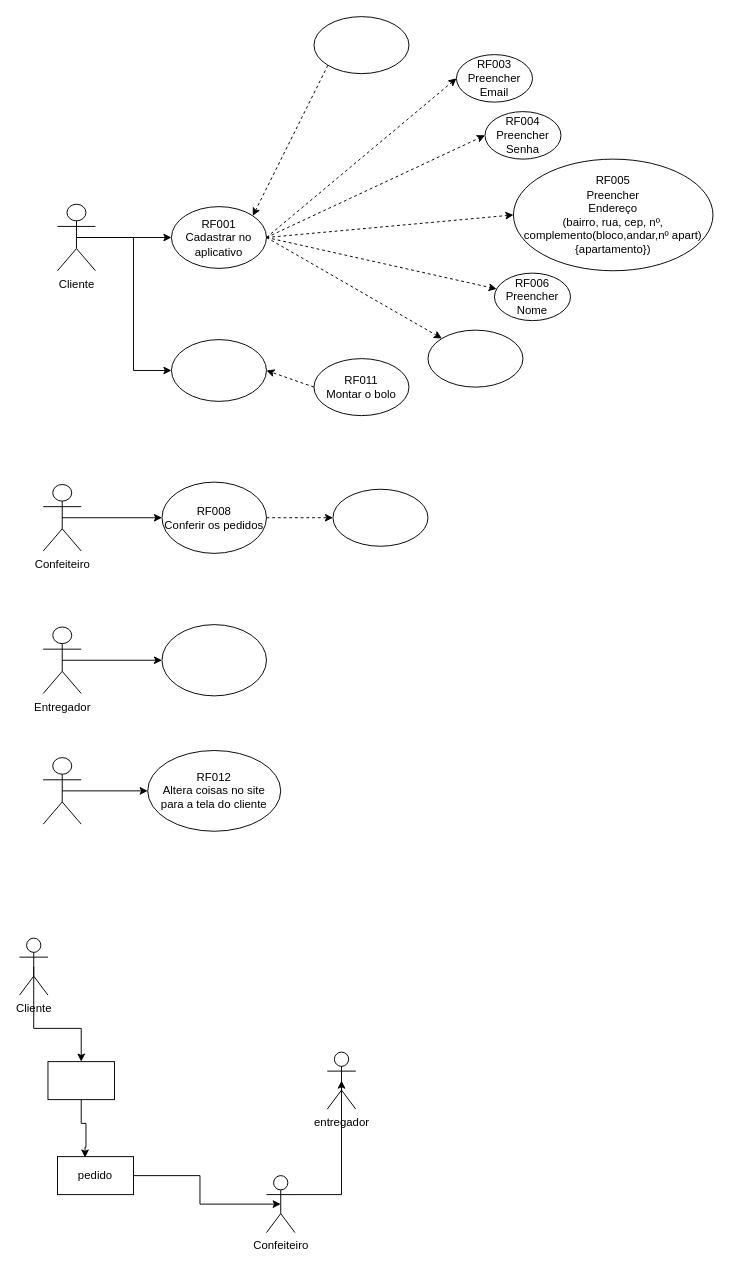
This 730x1269 diagram has some shape labels left out. The box of each missing label's shape, as (x1, y1, x2, y2) in pixels:
Administrador: (42, 757, 81, 824)
cadastra: (47, 1061, 114, 1100)
RF002 Pedido: (171, 339, 266, 401)
RF007 Preencher pagamento: (427, 329, 523, 387)
RF009 Fazer o bolo: (332, 488, 428, 546)
RF010 Entregar o pedido: (161, 624, 266, 696)
RF013 Apagar conta: (313, 16, 409, 74)
